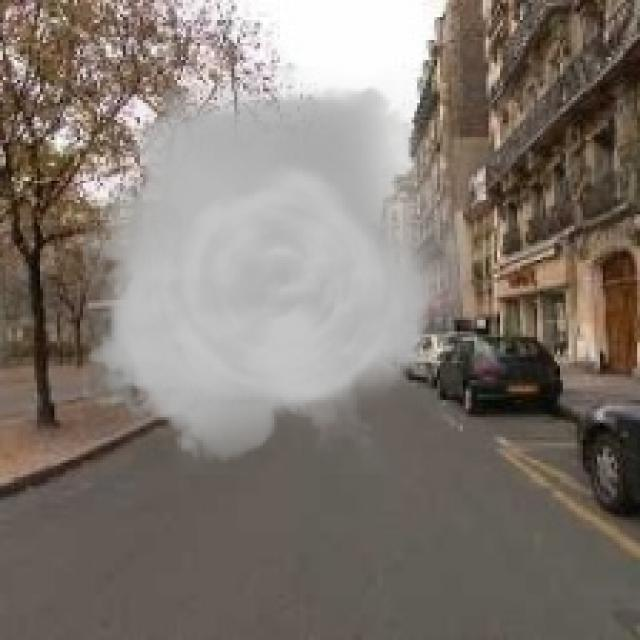Smoke: (82, 66, 468, 474)
